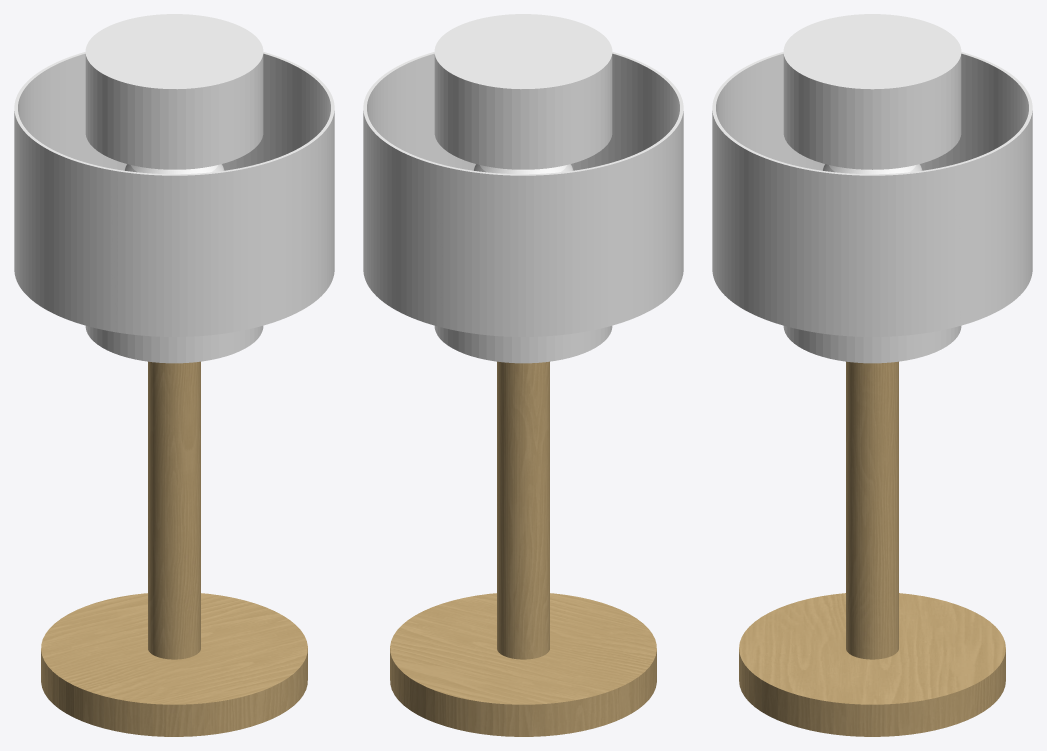
Rendered from WHITE_OFF.glb.
The picture shows the model from 3 angles, left to right: view 1: azimuth 30°, elevation 25°; view 2: azimuth 150°, elevation 25°; view 3: azimuth 270°, elevation 25°; orthographic projection.
Visible parts, largest first — view 1: SHELL, BASE, INNER_TOP, INNER_BOT, BULB; view 2: SHELL, BASE, INNER_TOP, INNER_BOT, BULB; view 3: SHELL, BASE, INNER_TOP, INNER_BOT, BULB.
Part boxes in pixels (left/top/right/bottom): SHELL: left=14, top=52, right=334, bottom=336; BASE: left=41, top=361, right=307, bottom=736; INNER_TOP: left=85, top=14, right=263, bottom=169; INNER_BOT: left=85, top=326, right=263, bottom=363; BULB: left=124, top=164, right=224, bottom=174; SHELL: left=363, top=52, right=683, bottom=336; BASE: left=390, top=361, right=656, bottom=736; INNER_TOP: left=434, top=14, right=612, bottom=169; INNER_BOT: left=434, top=326, right=612, bottom=363; BULB: left=473, top=164, right=573, bottom=174; SHELL: left=712, top=52, right=1032, bottom=336; BASE: left=739, top=361, right=1005, bottom=736; INNER_TOP: left=783, top=14, right=961, bottom=169; INNER_BOT: left=783, top=326, right=961, bottom=363; BULB: left=822, top=164, right=922, bottom=174.
Bounding box in the file's own units: 0.18 × 0.39 × 0.18.
Materials: 3 (3 with a texture image).
